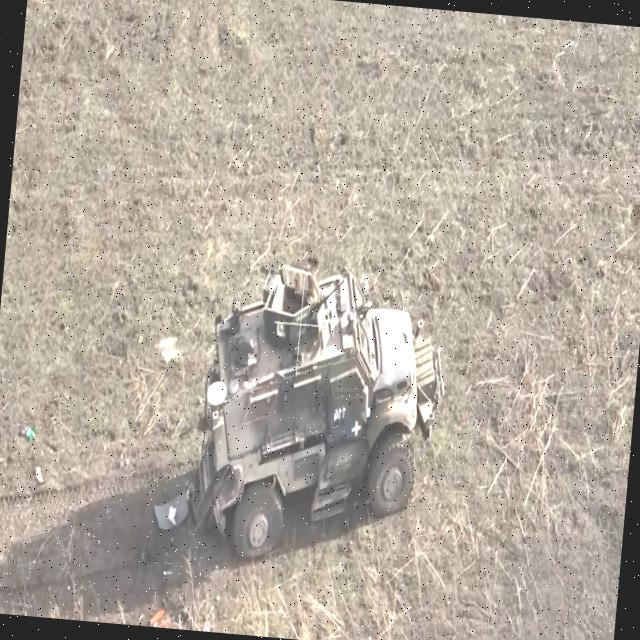Destroyed: (184, 260, 450, 577)
